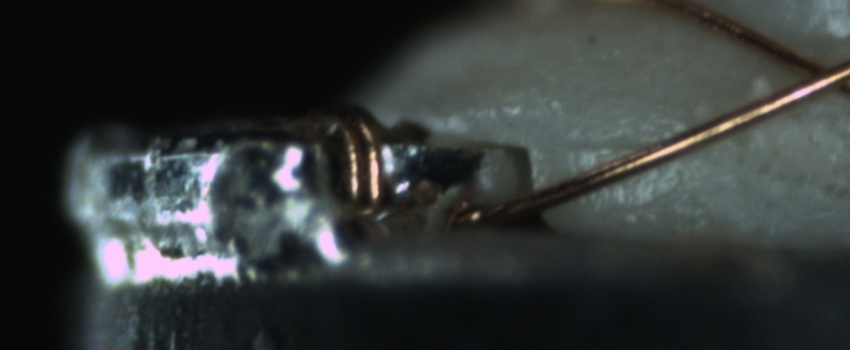CL: (773, 41, 849, 105)
DL: (561, 111, 662, 175)
TE: (327, 99, 392, 211)
